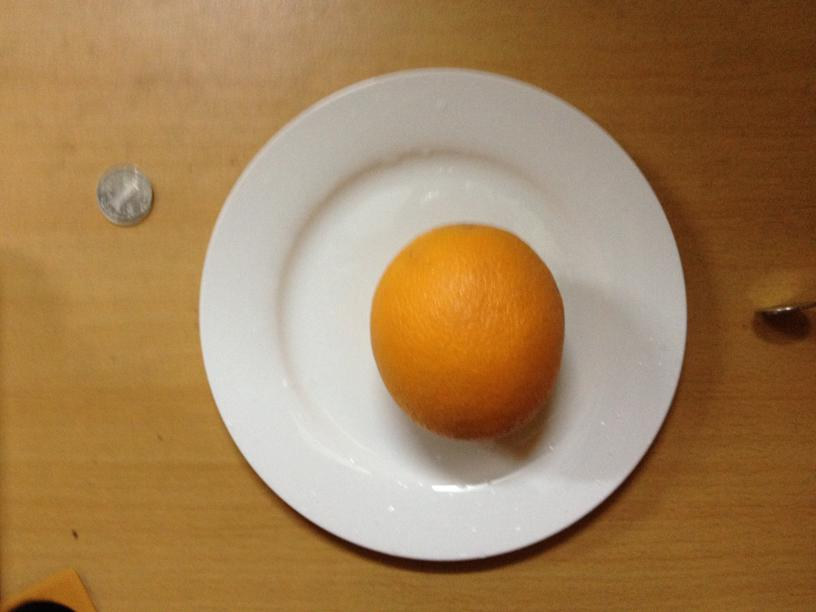coin: (98, 165, 155, 227)
orange: (371, 220, 568, 439)
